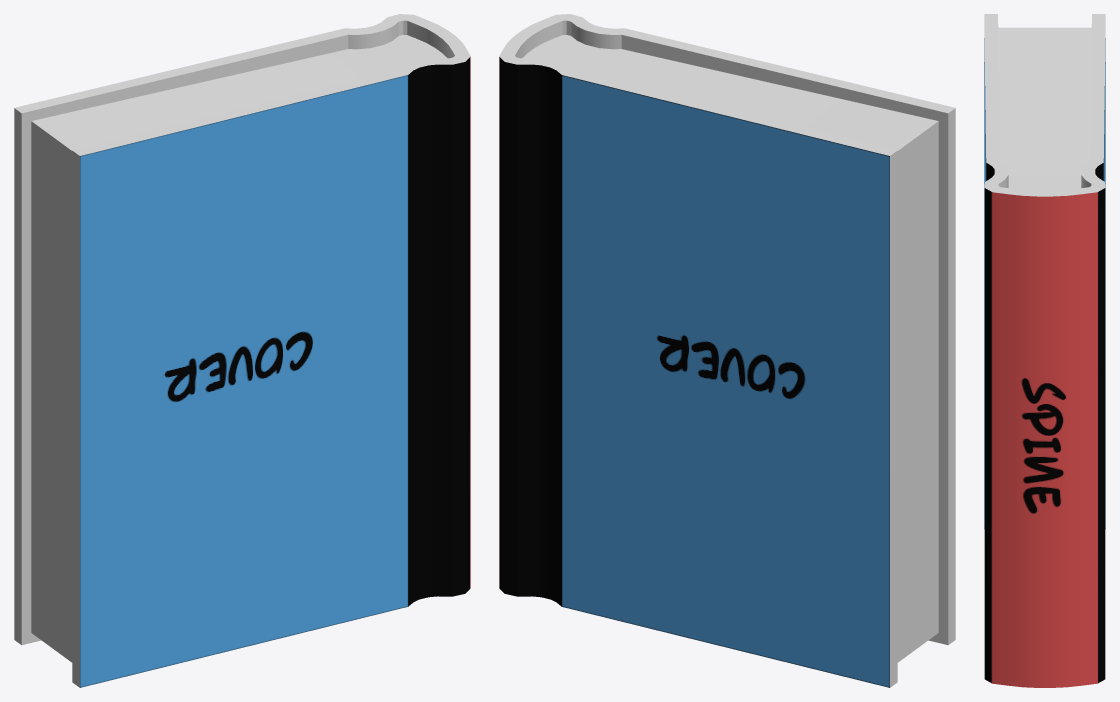
Rendered from single book.fbx.
3 views of the same model, side by side, from view 1: azimuth 30°, elevation 25°; view 2: azimuth 150°, elevation 25°; view 3: azimuth 270°, elevation 25° (orthographic). The views are drawn at different scales.
Visible parts, largest first — view 1: Book 3; view 2: Book 3; view 3: Book 3.
Boxes of the visible parts, box(x1,y1,x2,y2) form: Book 3: box(14, 14, 470, 687); Book 3: box(499, 14, 955, 687); Book 3: box(984, 14, 1105, 687).
Bounding box in the file's own units: 497 × 624 × 140.
2 materials, 1 textured.
